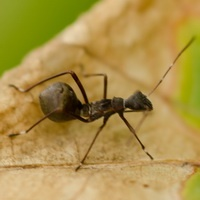insect: (8, 71, 153, 171)
